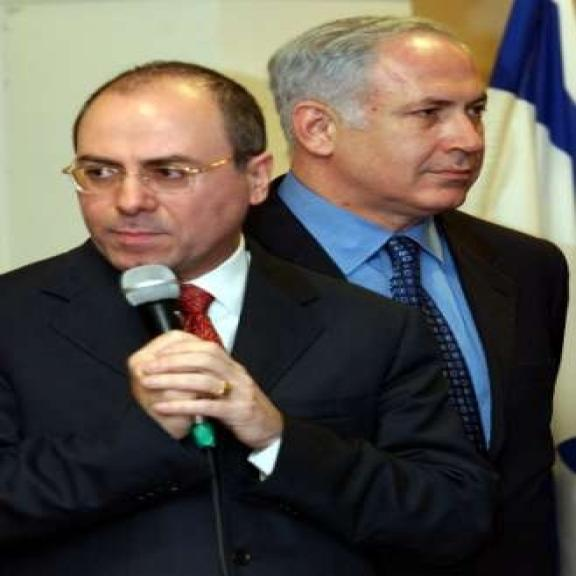face: (79, 97, 276, 281), (302, 40, 484, 213)
